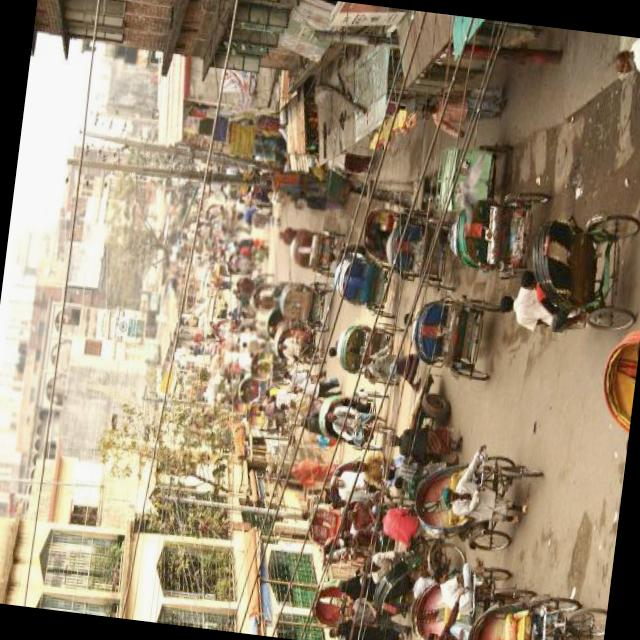motorcycle: (496, 189, 640, 340), (405, 432, 549, 555), (394, 281, 504, 386), (407, 548, 519, 640), (446, 180, 548, 278), (461, 576, 608, 640), (379, 203, 472, 291), (312, 378, 399, 454), (330, 312, 408, 384), (329, 245, 404, 317), (284, 215, 346, 277), (272, 272, 338, 329), (270, 318, 330, 368), (310, 570, 352, 632)
